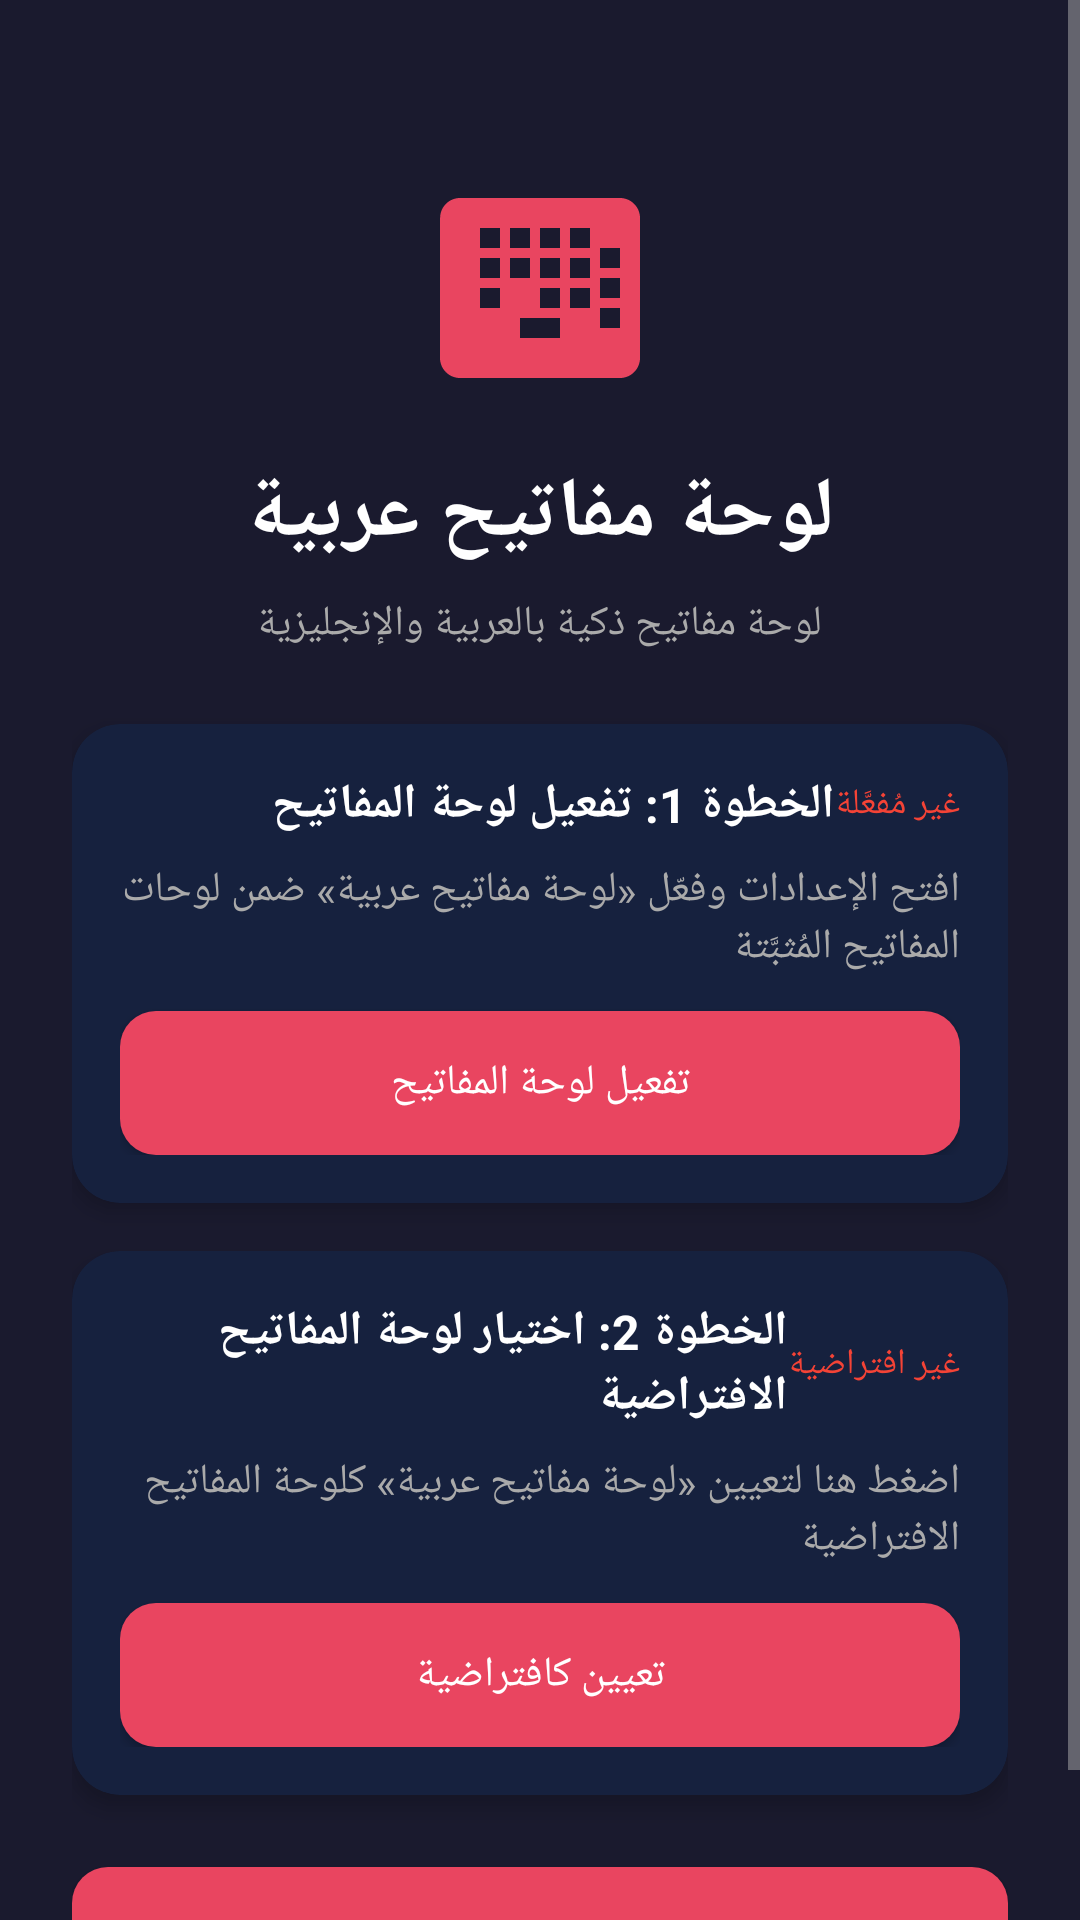

Icon click points for this 1080px x 1920px phone screenshot, format (x=x, y=y):
keyboard: (x=540, y=288)
